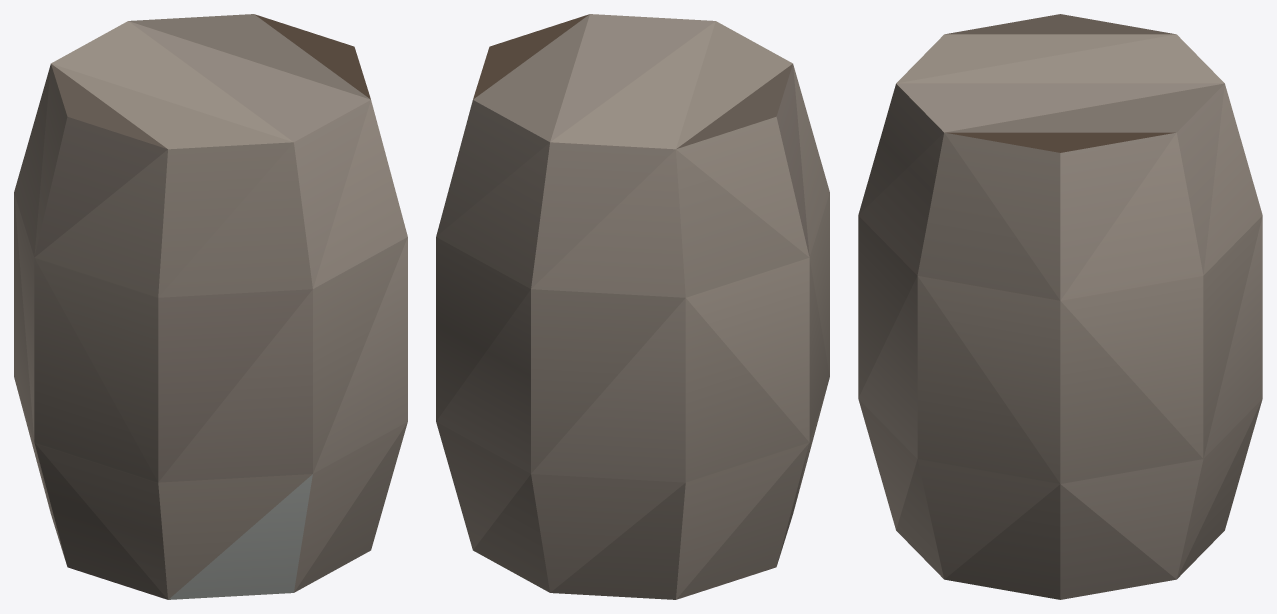
Rendered from detail-barrel.glb.
3 views of the same model, side by side, from view 1: azimuth 30°, elevation 25°; view 2: azimuth 150°, elevation 25°; view 3: azimuth 270°, elevation 25° (orthographic).
Parts seen in each view (by area): view 1: detail-barrel; view 2: detail-barrel; view 3: detail-barrel.
Boxes of the visible parts, x1,y1,x2,y2 form: detail-barrel: [14, 14, 407, 599]; detail-barrel: [436, 14, 829, 599]; detail-barrel: [858, 14, 1262, 599].
Size of the model in its own units: 0.246 by 0.3 by 0.246.
